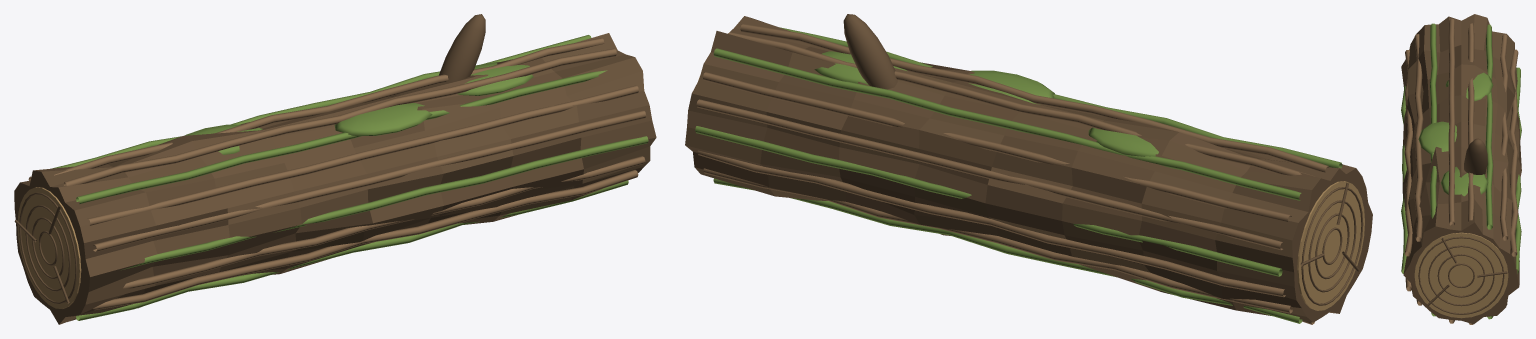
Rendered from log-high.glb.
3 views of the same model, side by side, from view 1: azimuth 30°, elevation 25°; view 2: azimuth 150°, elevation 25°; view 3: azimuth 270°, elevation 25° (orthographic). The views are drawn at different scales.
Parts seen in each view (by area): view 1: LOG; view 2: LOG; view 3: LOG.
Boxes of the visible parts, bbox=[...] form: LOG: bbox=[14, 14, 656, 324]; LOG: bbox=[685, 14, 1372, 324]; LOG: bbox=[1401, 14, 1521, 324].
Bounding box in the file's own units: 3.15 × 0.9931 × 0.7596.
